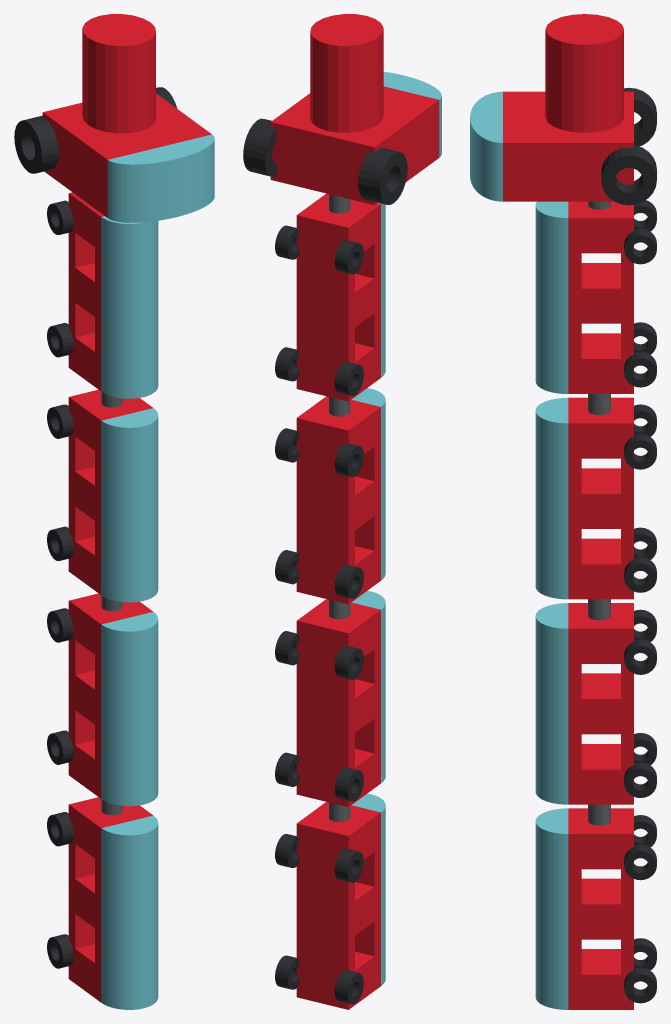
Rendered from tinker.obj.
3 views of the same model, side by side, from view 1: azimuth 30°, elevation 25°; view 2: azimuth 150°, elevation 25°; view 3: azimuth 270°, elevation 25° (orthographic).
Parts seen in each view (by area): view 1: group_0_7720667, group_0_15277357, group_0_2829873, group_0_6383466; view 2: group_0_15277357, group_0_2829873, group_0_7720667, group_0_6383466; view 3: group_0_15277357, group_0_7720667, group_0_2829873, group_0_6383466.
Part boxes in pixels (x1,y1,x2,y2): group_0_7720667: (101,134,214,1009); group_0_15277357: (42,14,211,1002); group_0_2829873: (14,87,177,968); group_0_6383466: (101,392,122,815); group_0_15277357: (270,14,439,1009); group_0_2829873: (243,118,407,1004); group_0_7720667: (351,71,441,985); group_0_6383466: (329,194,350,821); group_0_15277357: (503,14,633,1009); group_0_7720667: (470,91,568,1009); group_0_2829873: (601,87,656,1003); group_0_6383466: (588,201,610,825).
Size of the model in its own units: 30 by 200 by 35.
